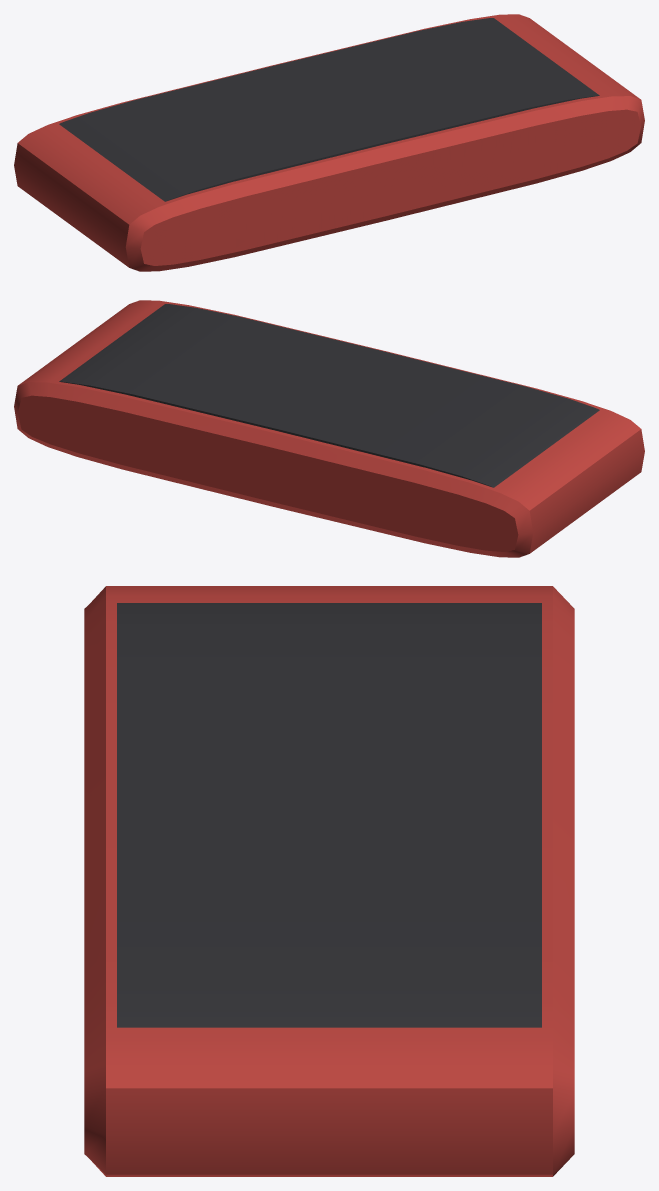
Rendered from bar.glb.
The picture shows the model from 3 angles, top to bottom: view 1: azimuth 30°, elevation 25°; view 2: azimuth 150°, elevation 25°; view 3: azimuth 270°, elevation 25°; orthographic projection. The views are drawn at different scales.
Visible parts, largest first — view 1: lod0; view 2: lod0; view 3: lod0.
Part boxes in pixels (bbox=[...]): lod0: bbox=[14, 14, 644, 271]; lod0: bbox=[14, 300, 644, 557]; lod0: bbox=[84, 586, 574, 1176].
Size of what is drawn, in the model's own units: 0.22 by 0.0428 by 0.09.
